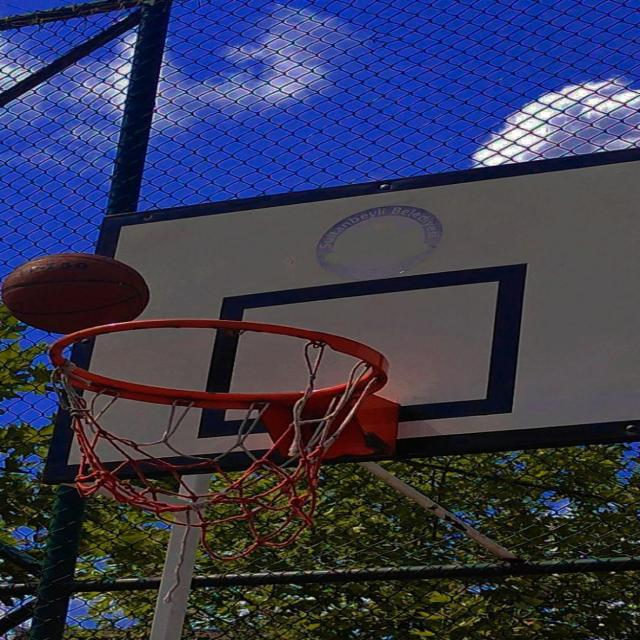hoop: (50, 312, 405, 540)
